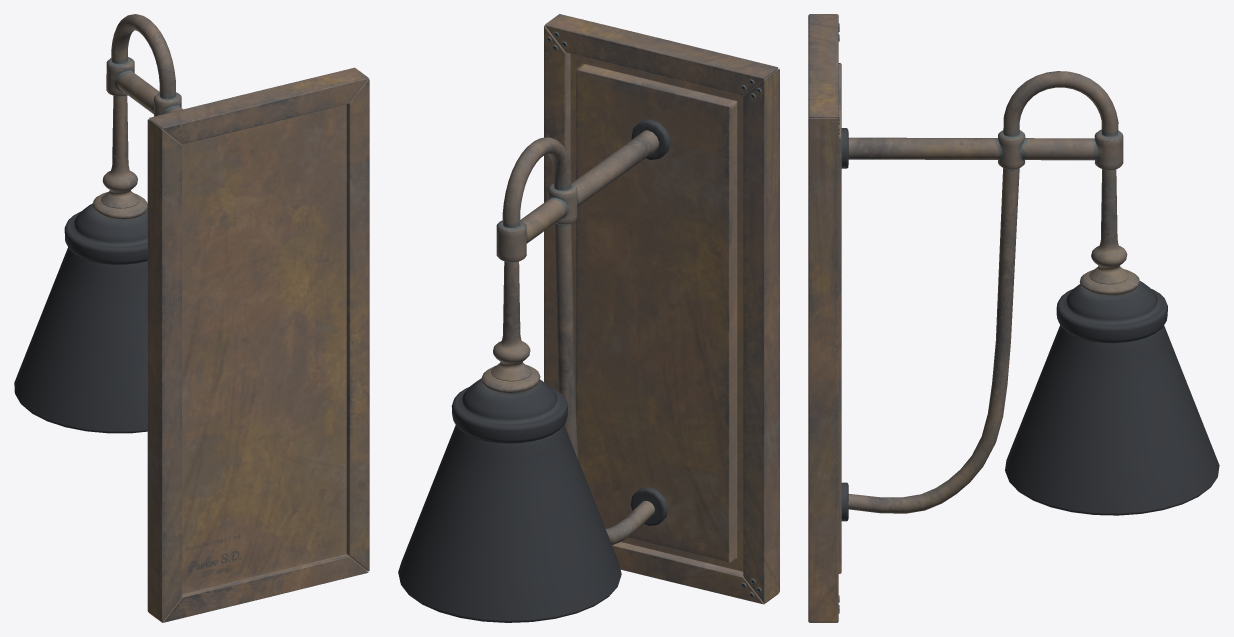
3 views of the same model, side by side, from view 1: azimuth 30°, elevation 25°; view 2: azimuth 150°, elevation 25°; view 3: azimuth 270°, elevation 25° (orthographic). The views are drawn at different scales.
Visible parts, largest first — view 1: industrial_wall_sconce; view 2: industrial_wall_sconce; view 3: industrial_wall_sconce.
Part boxes in pixels (bbox=[...]): industrial_wall_sconce: bbox=[14, 14, 369, 622]; industrial_wall_sconce: bbox=[398, 14, 779, 622]; industrial_wall_sconce: bbox=[808, 14, 1219, 622].
Size of the model in its own units: 0.1503 by 0.3418 by 0.2516.
2 materials, 2 textured.
